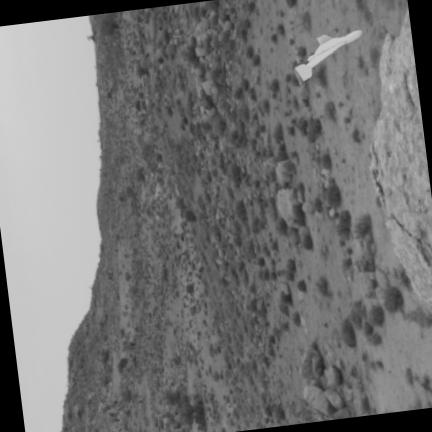Shahed: (296, 28, 361, 79)
